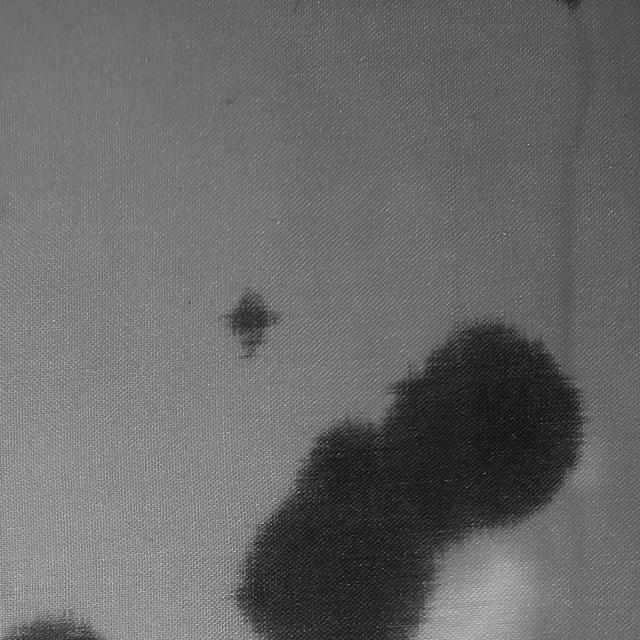Hole: (191, 265, 634, 640), (191, 262, 306, 366), (0, 585, 125, 640)
